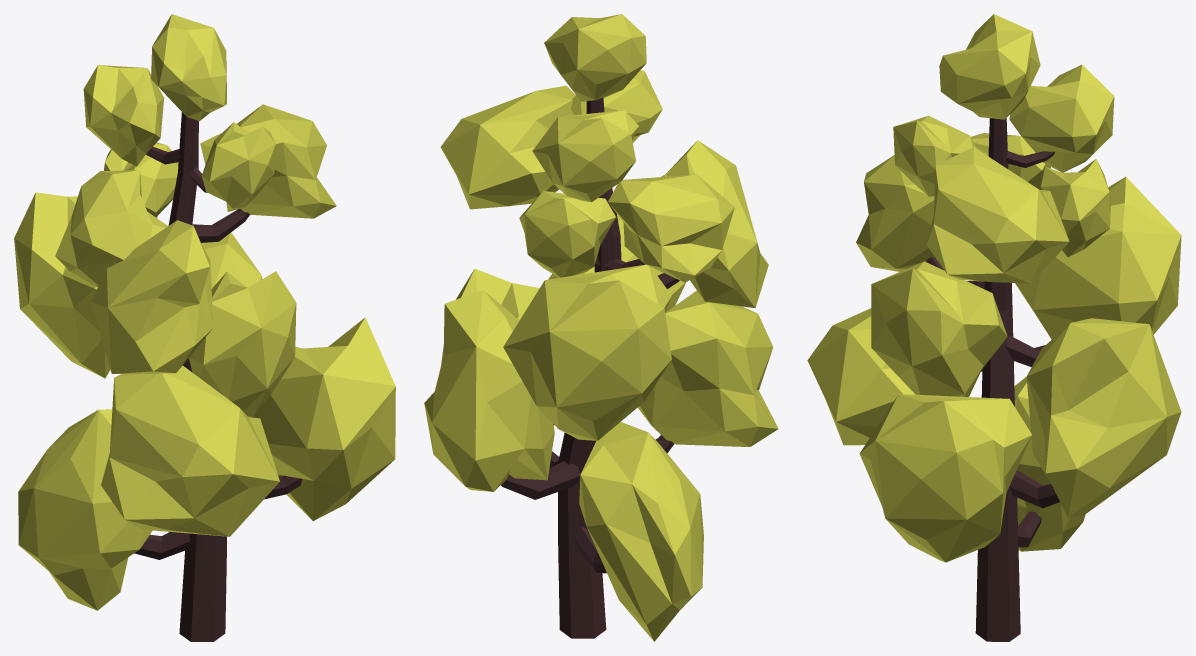
The model's file is tree5.fbx.
3 views of the same model, side by side, from view 1: azimuth 30°, elevation 25°; view 2: azimuth 150°, elevation 25°; view 3: azimuth 270°, elevation 25° (orthographic). The views are drawn at different scales.
Visible parts, largest first — view 1: Cylinder.004; view 2: Cylinder.004; view 3: Cylinder.004.
Part boxes in pixels (x1,y1,x2,y2): Cylinder.004: [14, 14, 395, 641]; Cylinder.004: [424, 14, 778, 641]; Cylinder.004: [807, 14, 1181, 641].
Size of the model in its own units: 444 by 871 by 490.
